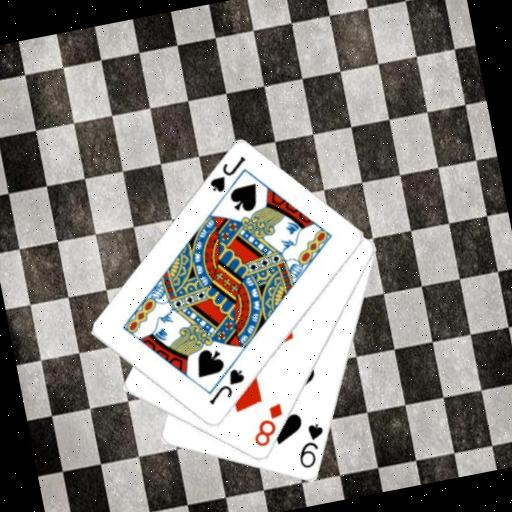8D: (245, 400, 290, 451)
9S: (290, 419, 332, 472)
JS: (202, 152, 253, 197), (200, 365, 250, 408)
